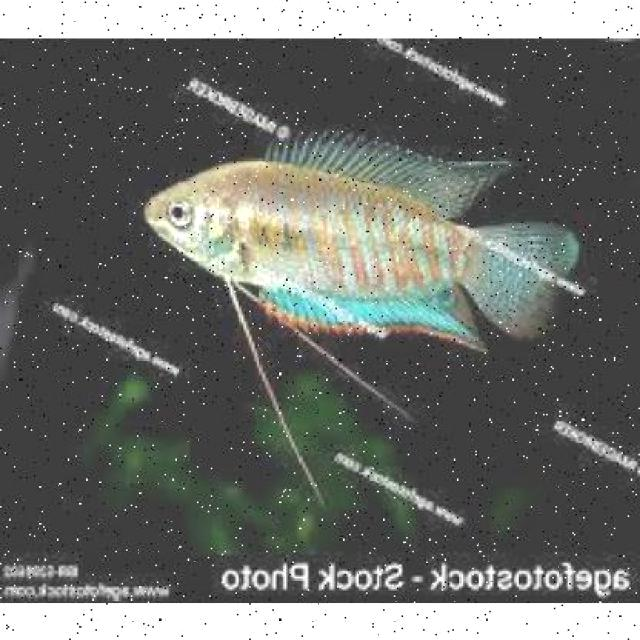gurame: (137, 146, 568, 337)
